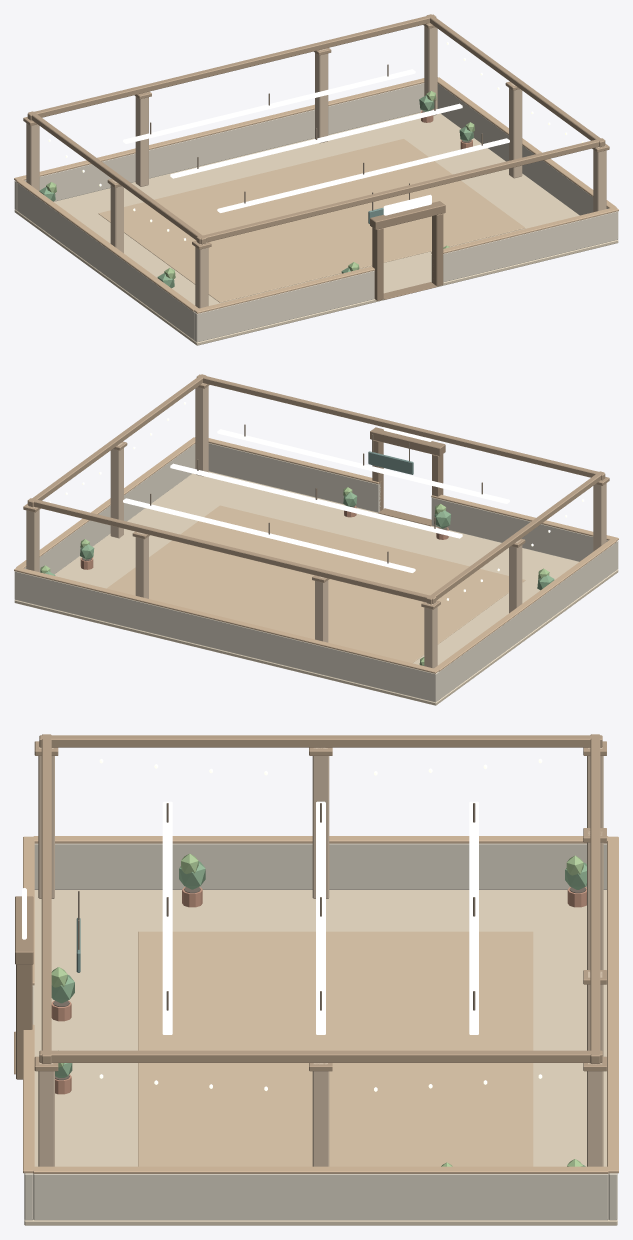
File: echo_world_expo_hall.glb
3 views of the same model, one above another, from view 1: azimuth 30°, elevation 25°; view 2: azimuth 150°, elevation 25°; view 3: azimuth 270°, elevation 25° (orthographic). The views are drawn at different scales.
Parts seen in each view (by area): view 1: FLOOR_Inlay, GROUND_ExpoHallFloor, WALL_Back, WALL_FrontLeft, WALL_FrontRight, WALL_Left, WALL_Right, BEAM_Front, BEAM_Back, WALLTRIM_Back, BEAM_Left, BEAM_Right (+19 smaller); view 2: FLOOR_Inlay, GROUND_ExpoHallFloor, WALL_Back, WALL_Left, WALL_FrontRight, WALL_FrontLeft, WALL_Right, BEAM_Back, BEAM_Front, WALLTRIM_Back, BEAM_Left, BEAM_Right (+17 smaller); view 3: FLOOR_Inlay, GROUND_ExpoHallFloor, WALL_Right, WALL_Left, BEAM_Left, BEAM_Right, WALLTRIM_Right, WALLTRIM_Back, WALLTRIM_Left, BEAM_Front, BEAM_Back, LIGHTSTRIP_01 (+12 smaller).
Part boxes in pixels (bbox=[...]): FLOOR_Inlay: bbox=[98, 139, 525, 302]; GROUND_ExpoHallFloor: bbox=[14, 112, 618, 345]; WALL_Back: bbox=[14, 83, 424, 210]; WALL_FrontLeft: bbox=[194, 271, 374, 342]; WALL_FrontRight: bbox=[431, 211, 618, 282]; WALL_Left: bbox=[17, 183, 194, 339]; WALL_Right: bbox=[437, 84, 608, 215]; BEAM_Front: bbox=[196, 138, 605, 243]; BEAM_Back: bbox=[27, 14, 436, 120]; WALLTRIM_Back: bbox=[14, 77, 438, 180]; BEAM_Left: bbox=[28, 111, 206, 244]; BEAM_Right: bbox=[426, 14, 604, 147]; FLOOR_Inlay: bbox=[106, 505, 525, 663]; GROUND_ExpoHallFloor: bbox=[14, 471, 618, 705]; WALL_Back: bbox=[14, 571, 438, 702]; WALL_Left: bbox=[438, 543, 615, 699]; WALL_FrontRight: bbox=[208, 443, 380, 512]; WALL_FrontLeft: bbox=[431, 497, 618, 570]; WALL_Right: bbox=[24, 444, 195, 574]; BEAM_Back: bbox=[27, 498, 436, 603]; BEAM_Front: bbox=[196, 374, 605, 480]; WALLTRIM_Back: bbox=[14, 567, 438, 673]; BEAM_Left: bbox=[426, 471, 604, 604]; BEAM_Right: bbox=[28, 374, 206, 507]; FLOOR_Inlay: bbox=[138, 931, 533, 1166]; GROUND_ExpoHallFloor: bbox=[24, 890, 617, 1225]; WALL_Right: bbox=[33, 1173, 608, 1220]; WALL_Left: bbox=[34, 843, 606, 889]; BEAM_Left: bbox=[39, 735, 602, 747]; BEAM_Right: bbox=[39, 1050, 602, 1062]; WALLTRIM_Right: bbox=[33, 1166, 608, 1173]; WALLTRIM_Back: bbox=[607, 836, 618, 1173]; WALLTRIM_Left: bbox=[34, 836, 607, 843]; BEAM_Front: bbox=[41, 734, 51, 1063]; BEAM_Back: bbox=[590, 734, 600, 1063]; LIGHTSTRIP_01: bbox=[162, 801, 172, 1034].
Bounding box in the file's own units: 16.06 × 3.67 × 12.24.
